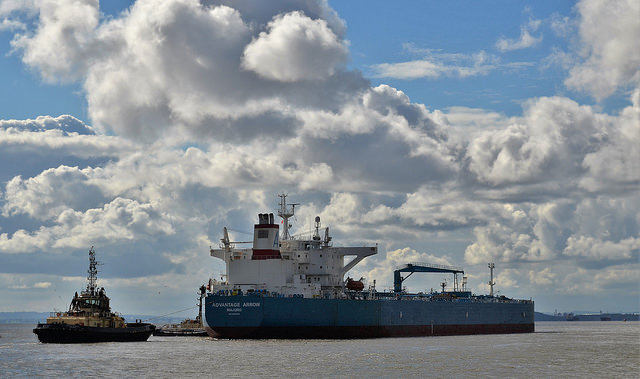tanker: (208, 197, 545, 337)
tug_boat: (39, 252, 154, 345)
